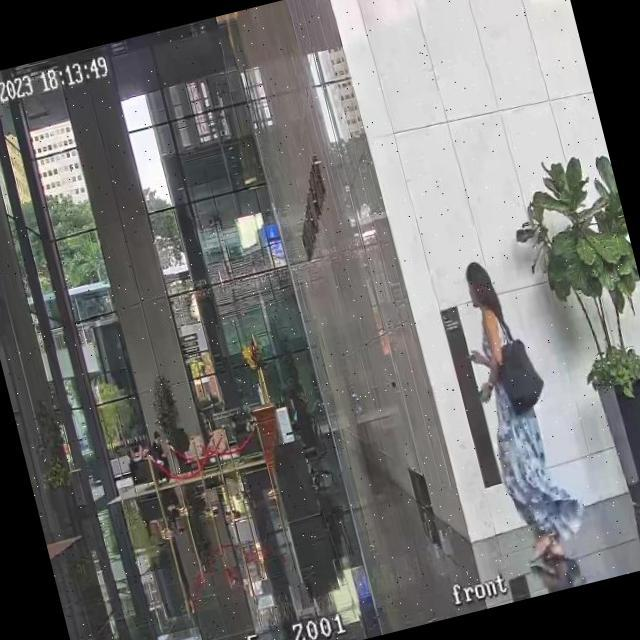person: (447, 248, 592, 554), (284, 387, 317, 450), (146, 428, 177, 488), (126, 440, 164, 473)
